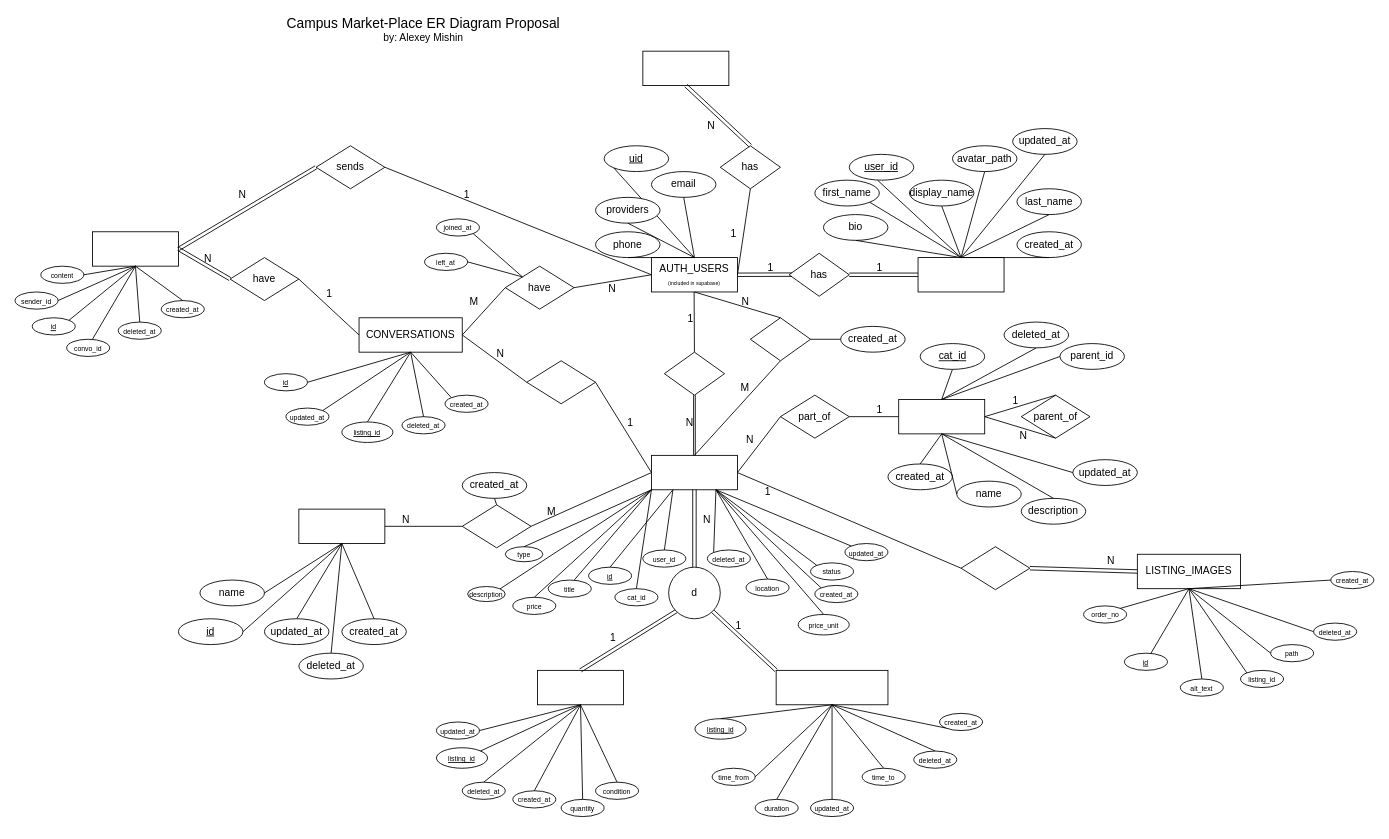
The diagram is 1389 pixels wide and 839 high, and some of its shapes have lost their labels. The centre of each missing label's shape, as x and y in pixels:
about: (561,382)
CATEGORIES: (941,416)
favorites: (780,339)
has_a: (995,568)
ITEM_DETAILS: (580,687)
LISTINGS: (694,472)
MESSAGES: (135,248)
NOTIFICATIONS: (685,68)
owns: (694,373)
PROFILES: (960,274)
SERVICE_DETAILS: (831,687)
tagged_with: (496,526)
TAGS: (341,526)
